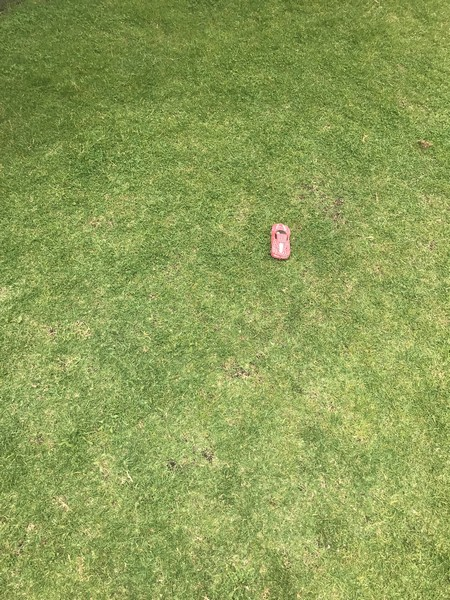RC: (267, 220, 293, 261)
